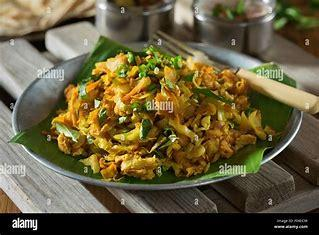Kottu: (52, 39, 270, 191)
